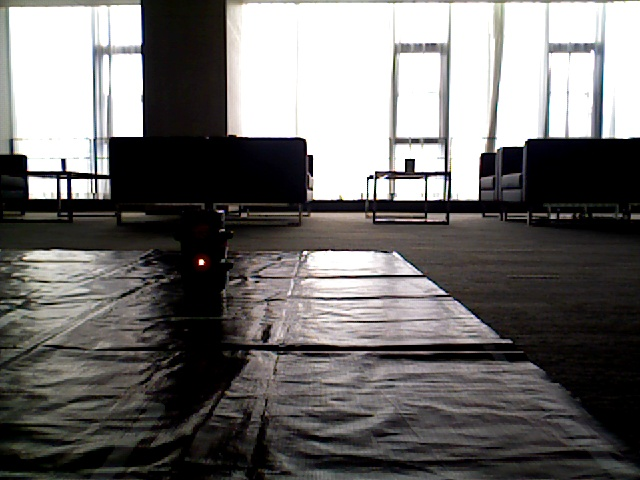yellow: (186, 211, 221, 294)
